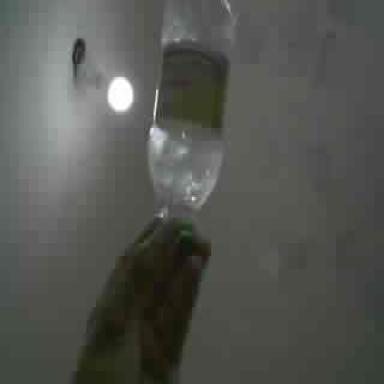bottle: (148, 0, 235, 218)
